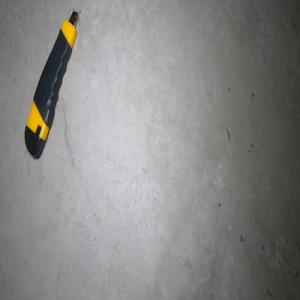Cutter: (23, 9, 79, 160)
